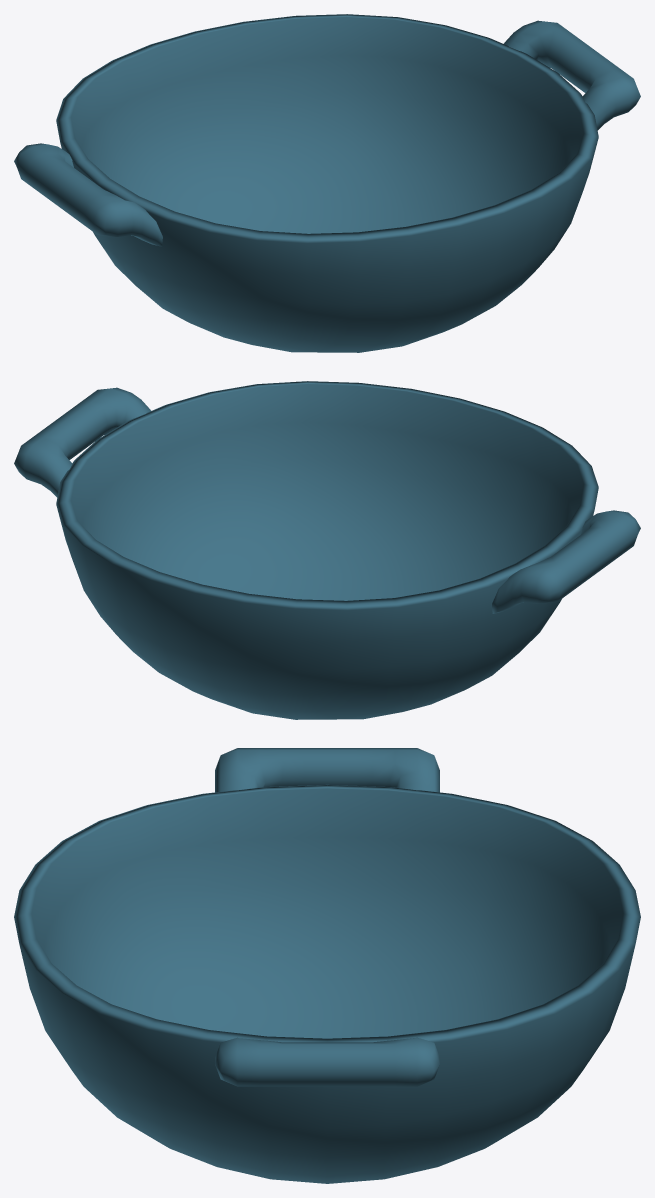
The model's file is olla.fbx.
3 views of the same model, one above another, from view 1: azimuth 30°, elevation 25°; view 2: azimuth 150°, elevation 25°; view 3: azimuth 270°, elevation 25° (orthographic). The views are drawn at different scales.
Parts seen in each view (by area): view 1: pCube3; view 2: pCube3; view 3: pCube3.
Part boxes in pixels (x1=…): pCube3: x1=14, y1=14, x2=640, y2=352; pCube3: x1=14, y1=381, x2=640, y2=719; pCube3: x1=14, y1=748, x2=640, y2=1183.
Bounding box in the file's own units: 1.02 × 0.3746 × 0.8637.
